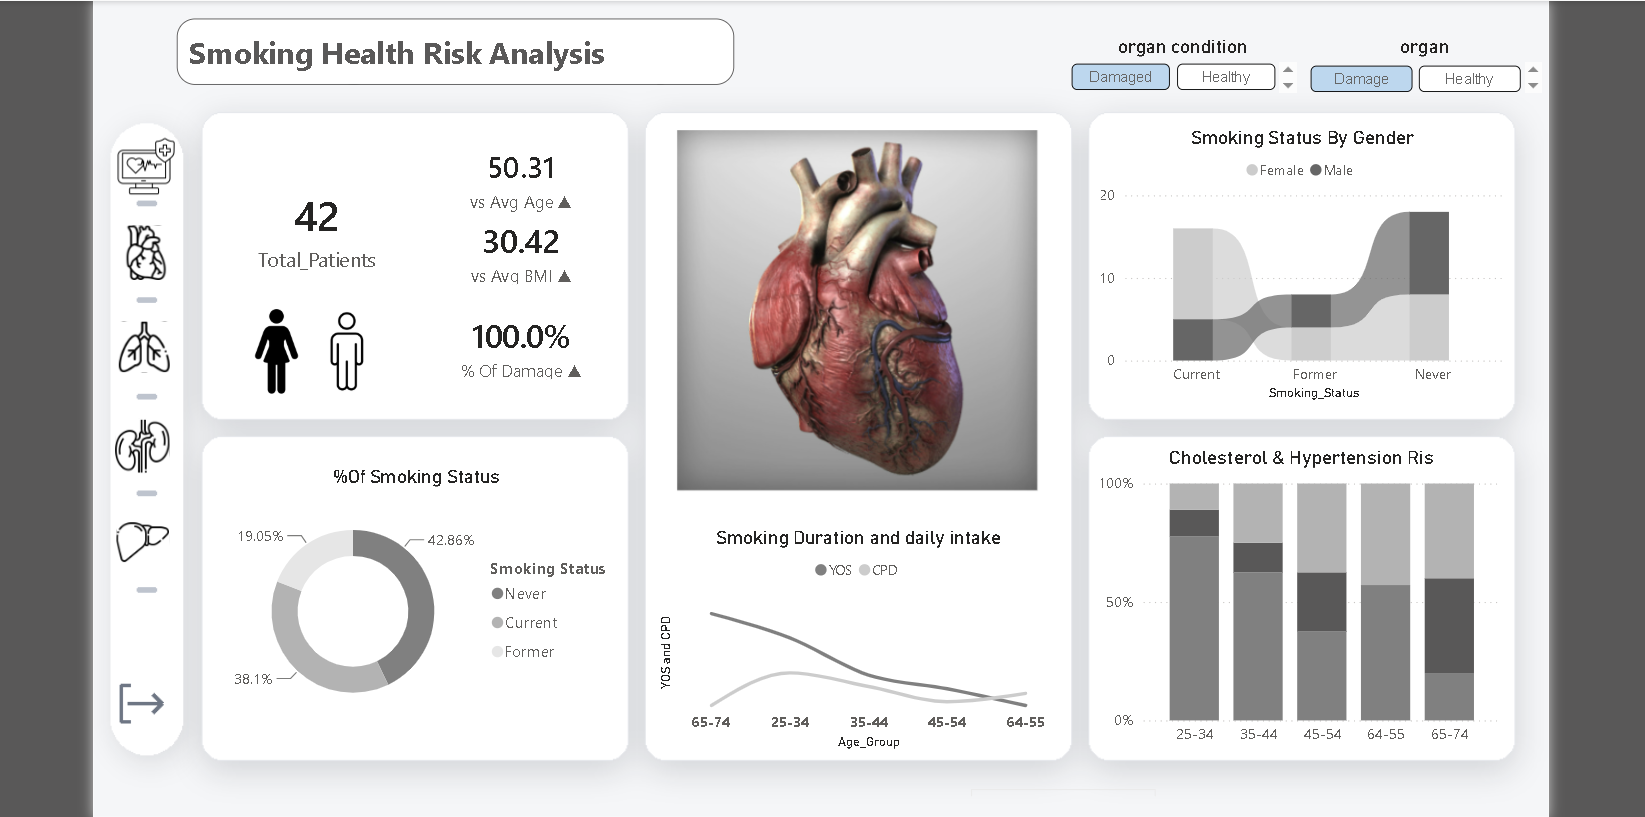

Layout of this report page (visuals, bound fields, positions):
{"tool":"powerbi","page":{"name":"Page 1","canvas":[1280,720],"ordinal":0},"visuals":[{"type":"cardVisual","fields":{"Data":["Dax.Total_Patients"]},"box":[105.6,108.9,183.1,184.7],"z":0},{"type":"cardVisual","fields":{"Data":["Avg(smoking_health_risk_dataset.BMI)"]},"box":[287,176.5,179.8,89.1],"z":1000},{"type":"cardVisual","fields":{"Data":["Avg(smoking_health_risk_dataset.Age)"]},"box":[287,108.9,179.8,95.7],"z":2000},{"type":"donutChart","title":"%Of Smoking Status","fields":{"Category":["smoking_health_risk_dataset.Smoking_Status"],"Y":["CountNonNull(smoking_health_risk_dataset.Patient_ID)"]},"box":[103.5,408.2,363,239.1],"z":3000},{"type":"lineChart","title":"Smoking Duration and daily intake","fields":{"Category":["smoking_health_risk_dataset.Age_Group"],"Y":["Sum(smoking_health_risk_dataset.Smoking_Duration_Years)","Sum(smoking_health_risk_dataset.Cigarettes_Per_Day)"]},"box":[493.2,461.9,359.6,201.2],"z":4000},{"type":"urlImageVisualF94A94ED19DC4BDDA37647D0E682CAEF","fields":{"imageUrl":["Min(Organ.Image_Url)"]},"box":[491.5,108.9,361.2,326.6],"z":5000},{"type":"slicer","fields":{"Values":["Organ.Organ_Name"]},"box":[761.5,683.1,183.1,16.9],"z":6000},{"type":"actionButton","box":[18.1,189.7,56.1,62.7],"z":7000},{"type":"actionButton","box":[18.1,277.1,52.8,54.4],"z":8000},{"type":"actionButton","box":[14.8,359.6,56.1,64.3],"z":9000},{"type":"actionButton","box":[16.5,435.5,54.4,77.5],"z":10000},{"type":"cardVisual","fields":{"Data":["Dax.Damage_Percentage"]},"box":[287,260.6,179.8,89.1],"z":11000},{"type":"image","box":[186.4,260.6,72.6,95.7],"z":12000},{"type":"image","box":[123.7,260.6,74.2,95.7],"z":13000},{"type":"image","box":[18.1,113.8,56.1,62.7],"z":14000},{"type":"ribbonChart","title":"Smoking Status By Gender","fields":{"Category":["smoking_health_risk_dataset.Smoking_Status"],"Series":["smoking_health_risk_dataset.Gender"],"Y":["CountNonNull(smoking_health_risk_dataset.Patient_ID)"]},"box":[882.1,109.5,364.2,246.3],"z":15000},{"type":"hundredPercentStackedColumnChart","title":"Cholesterol & Hypertension Ris","fields":{"Category":["smoking_health_risk_dataset.Age_Group"],"Series":["smoking_health_risk_dataset.Risk Level"],"Y":["CountNonNull(smoking_health_risk_dataset.Patient_ID)"]},"box":[882.1,391.6,362.1,271.6],"z":16000},{"type":"textbox","box":[73.8,15.4,490.8,58.5],"z":17000},{"type":"ChicletSlicer1448559807354","title":"organ ","fields":{"Category":["Organ.Status"]},"box":[1063.1,29.2,216.9,58.5],"z":18000},{"type":"ChicletSlicer1448559807354","title":"organ condition","fields":{"Category":["smoking_health_risk_dataset.Damage_Status"]},"box":[853.3,29.7,210.7,58.3],"z":19000}]}

Visuals, with their boxes on the page's 1280x720 design canvas (x1, y1, x2, y2). These are canvas units, not pixel positions in the 1645x817 screenshot, which may show the page scaled, cropped or inside an application window:
cardVisual - Dax.Total_Patients: x1=106 y1=109 x2=289 y2=294
cardVisual - Avg(smoking_health_risk_dataset.BMI): x1=287 y1=176 x2=467 y2=266
cardVisual - Avg(smoking_health_risk_dataset.Age): x1=287 y1=109 x2=467 y2=205
"%Of Smoking Status" donutChart: x1=104 y1=408 x2=466 y2=647
"Smoking Duration and daily intake" lineChart: x1=493 y1=462 x2=853 y2=663
urlImageVisualF94A94ED19DC4BDDA37647D0E682CAEF - Min(Organ.Image_Url): x1=492 y1=109 x2=853 y2=436
slicer - Organ.Organ_Name: x1=762 y1=683 x2=945 y2=700
actionButton: x1=18 y1=190 x2=74 y2=252
actionButton: x1=18 y1=277 x2=71 y2=332
actionButton: x1=15 y1=360 x2=71 y2=424
actionButton: x1=16 y1=436 x2=71 y2=513
cardVisual - Dax.Damage_Percentage: x1=287 y1=261 x2=467 y2=350
image: x1=186 y1=261 x2=259 y2=356
image: x1=124 y1=261 x2=198 y2=356
image: x1=18 y1=114 x2=74 y2=176
"Smoking Status By Gender" ribbonChart: x1=882 y1=110 x2=1246 y2=356
"Cholesterol & Hypertension Ris" hundredPercentStackedColumnChart: x1=882 y1=392 x2=1244 y2=663
textbox: x1=74 y1=15 x2=565 y2=74
"organ " ChicletSlicer1448559807354: x1=1063 y1=29 x2=1280 y2=88
"organ condition" ChicletSlicer1448559807354: x1=853 y1=30 x2=1064 y2=88
